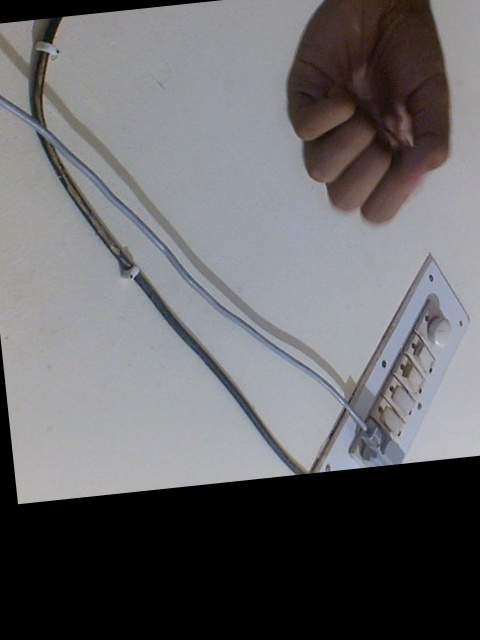hand: (274, 1, 463, 237)
